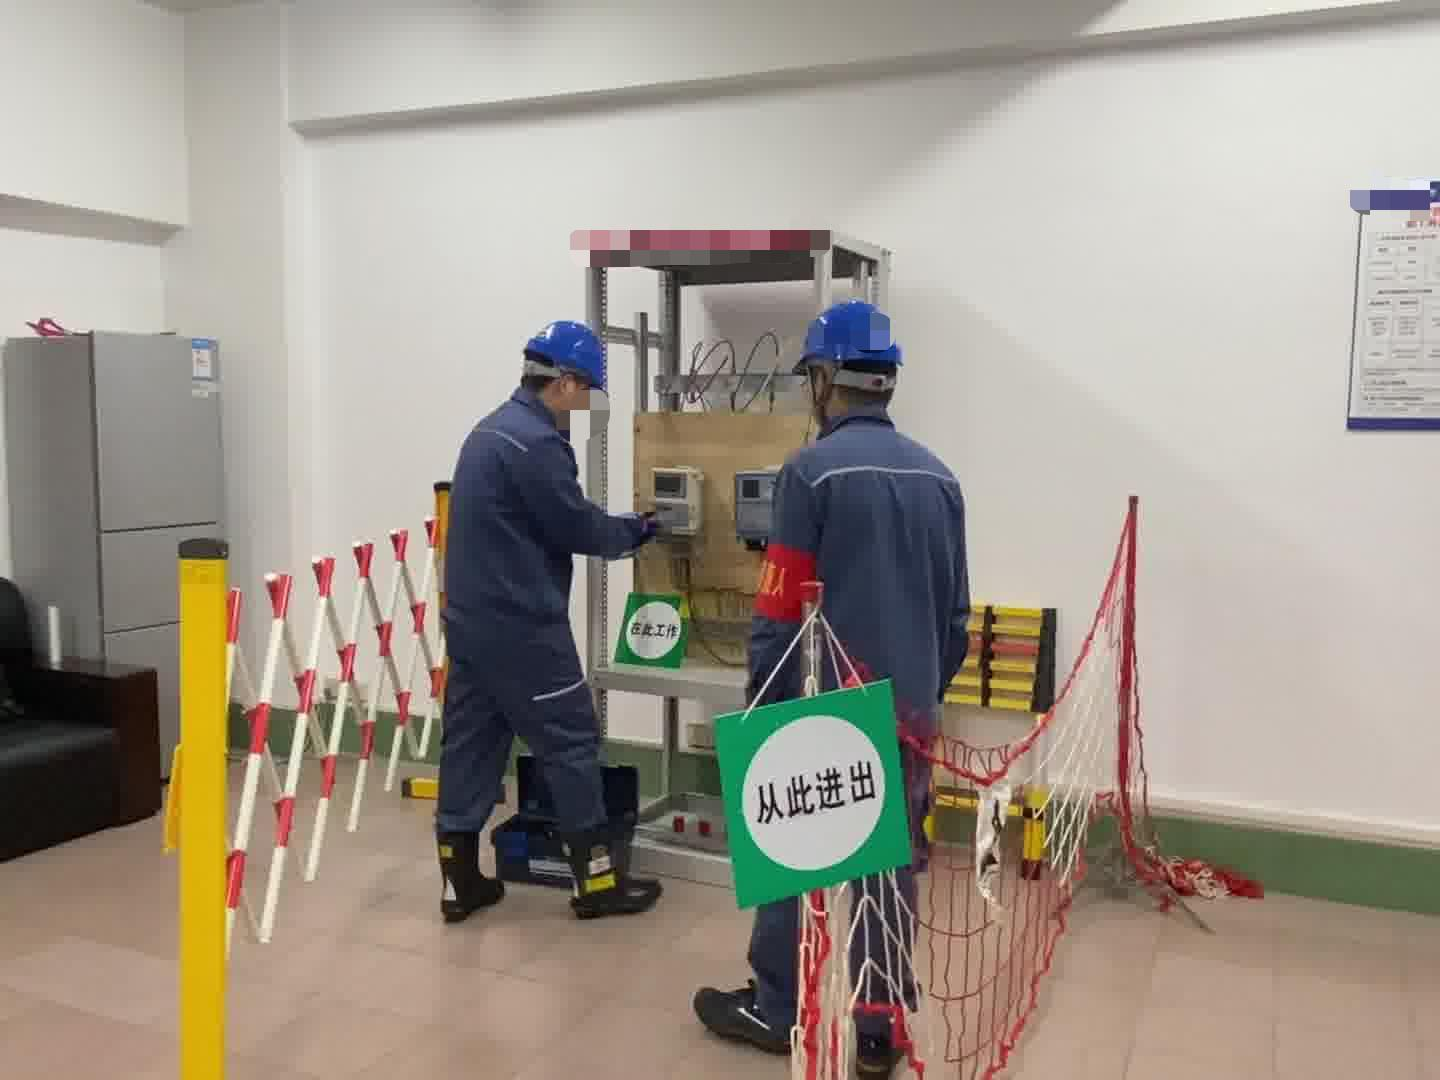halt: (795, 301, 908, 415), (524, 320, 613, 422)
inear: (807, 365, 841, 416)
noear: (553, 369, 586, 417)
